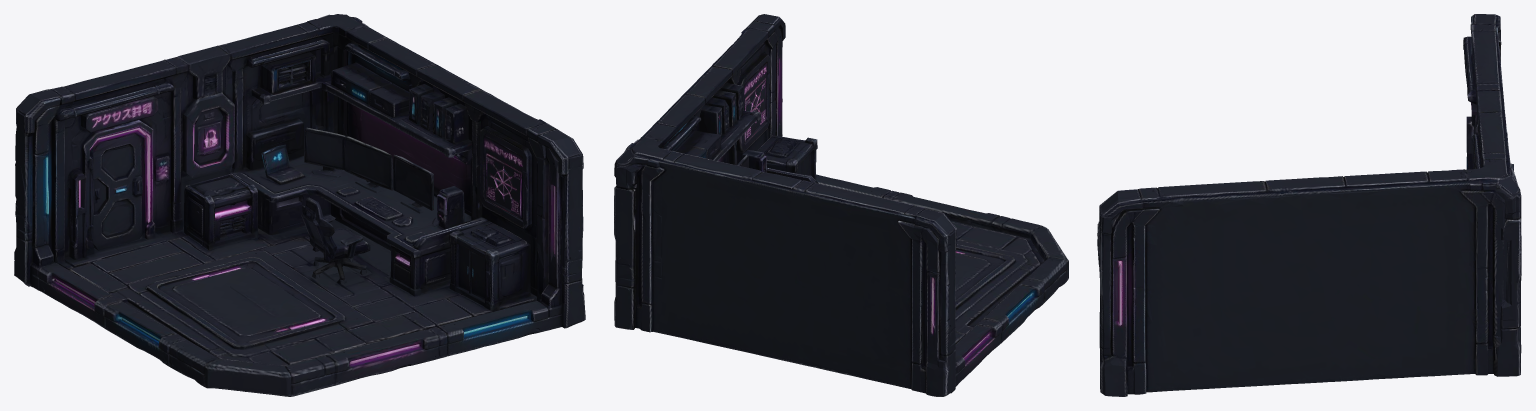
File: oficina.gltf
3 renders of one model, left to right at view 1: azimuth 30°, elevation 25°; view 2: azimuth 150°, elevation 25°; view 3: azimuth 270°, elevation 25°, orthographic. The views are drawn at different scales.
Visible parts, largest first — view 1: tripo_node_cff4eaac-f0b4-4ced-a6c7-ca3f993326ca; view 2: tripo_node_cff4eaac-f0b4-4ced-a6c7-ca3f993326ca; view 3: tripo_node_cff4eaac-f0b4-4ced-a6c7-ca3f993326ca.
Boxes of the visible parts, x1=… form: tripo_node_cff4eaac-f0b4-4ced-a6c7-ca3f993326ca: x1=14, y1=14, x2=585, y2=396; tripo_node_cff4eaac-f0b4-4ced-a6c7-ca3f993326ca: x1=614, y1=14, x2=1068, y2=396; tripo_node_cff4eaac-f0b4-4ced-a6c7-ca3f993326ca: x1=1097, y1=14, x2=1521, y2=396.
Size of the model in its own units: 1 by 0.4574 by 0.9015.
Materials: 1 (1 with a texture image).
